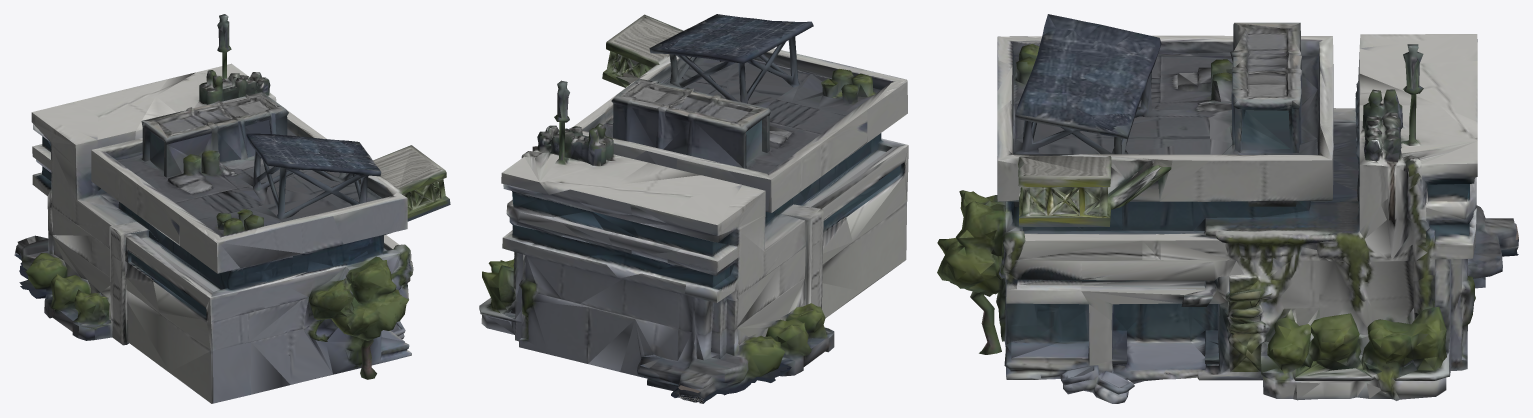
3 views of the same model, side by side, from view 1: azimuth 30°, elevation 25°; view 2: azimuth 150°, elevation 25°; view 3: azimuth 270°, elevation 25° (orthographic). The views are drawn at different scales.
Visible parts, largest first — view 1: 主建筑; view 2: 主建筑; view 3: 主建筑.
Boxes of the visible parts, <box> form: 主建筑: <box>14,14,450,403</box>; 主建筑: <box>479,14,908,403</box>; 主建筑: <box>937,14,1518,403</box>.
Bounding box in the file's own units: 28.63 × 23.85 × 38.93.
